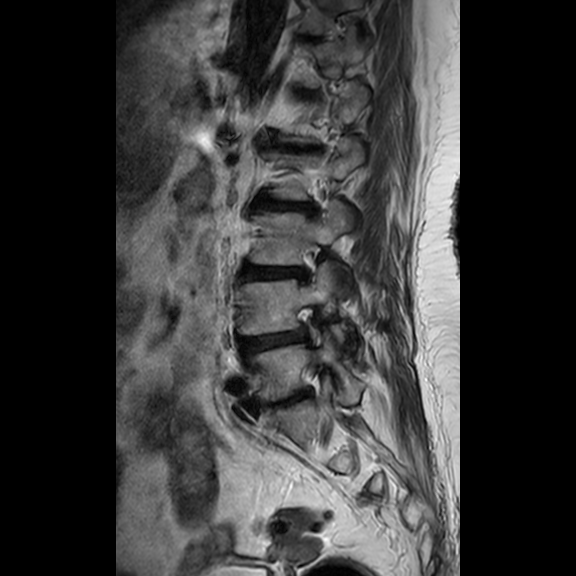LFS1: (288, 297, 333, 354), (290, 235, 335, 292)
